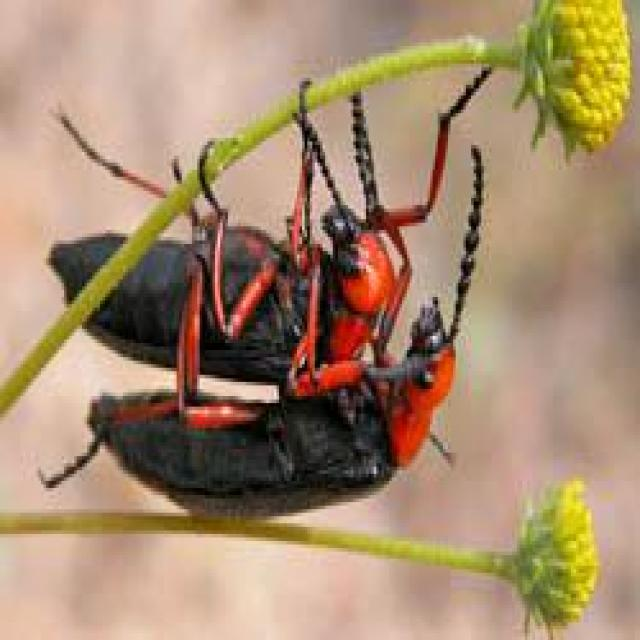BlisterBeetle-Adult-: (40, 53, 398, 390), (26, 291, 498, 528)
